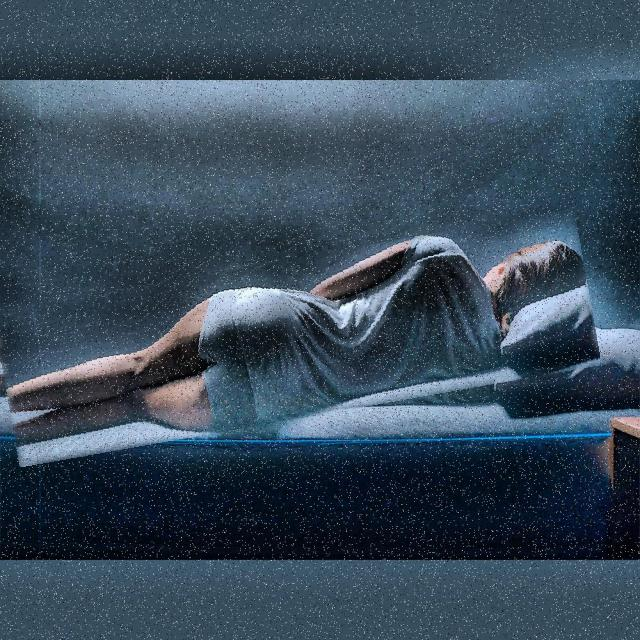Not_Supine: (5, 235, 585, 445)
